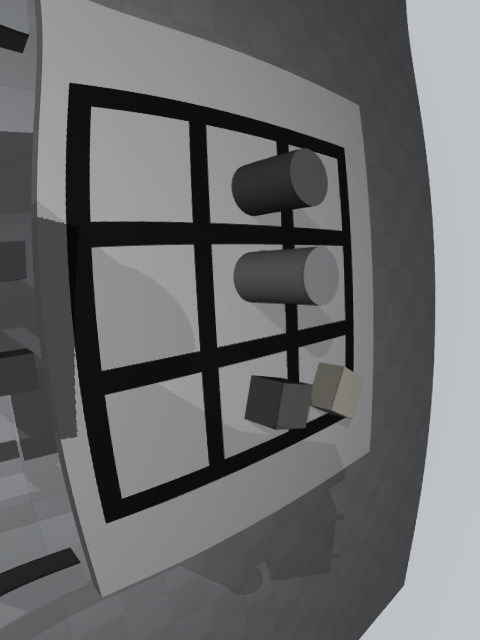can: (233, 247, 339, 306)
cube: (244, 375, 313, 430)
cylinder: (231, 148, 328, 216)
foam: (309, 363, 365, 420)
